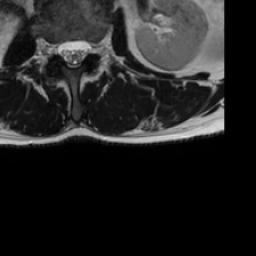CCS_normal: (69, 31, 78, 76)
LFS_normal: (90, 31, 99, 63)
LLS_normal: (78, 31, 90, 65)
RFS_normal: (49, 31, 58, 64)
RLS_normal: (58, 31, 69, 68)
